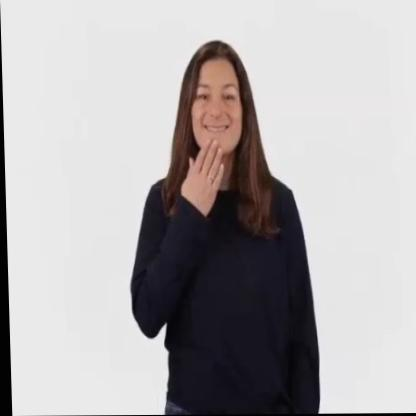ThankYou: (157, 33, 273, 284)
